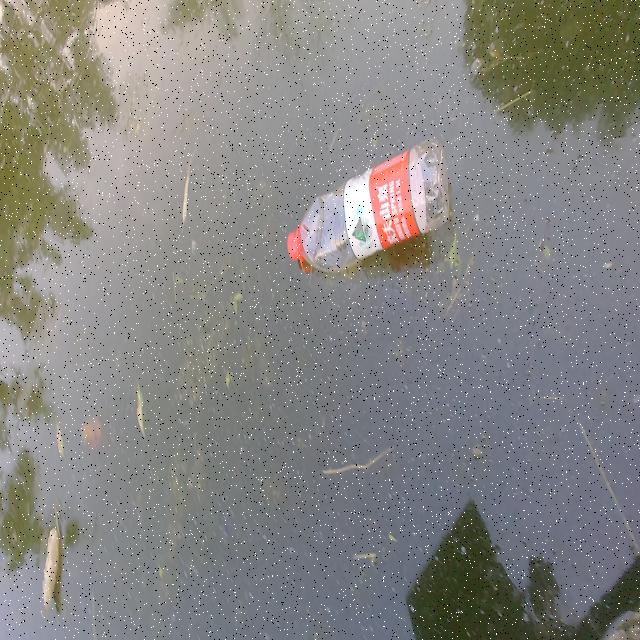Bottle: (285, 132, 452, 276)
